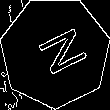N_SW: (24, 23, 86, 82)
